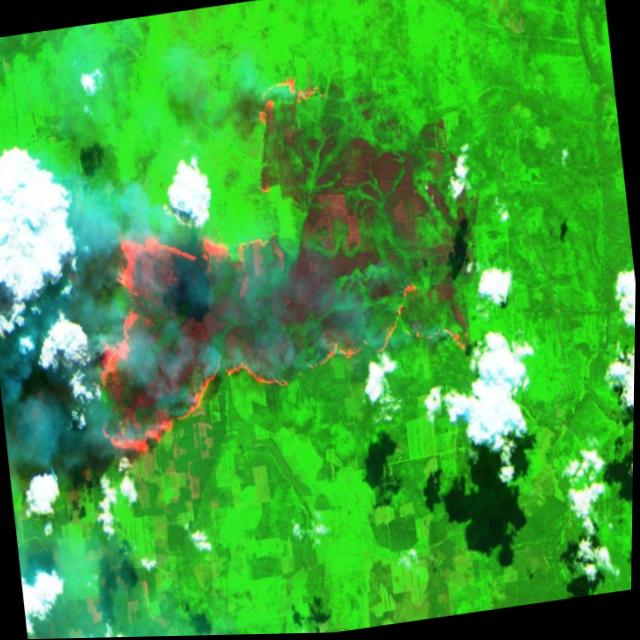fire: (75, 186, 475, 468), (242, 73, 341, 197)
